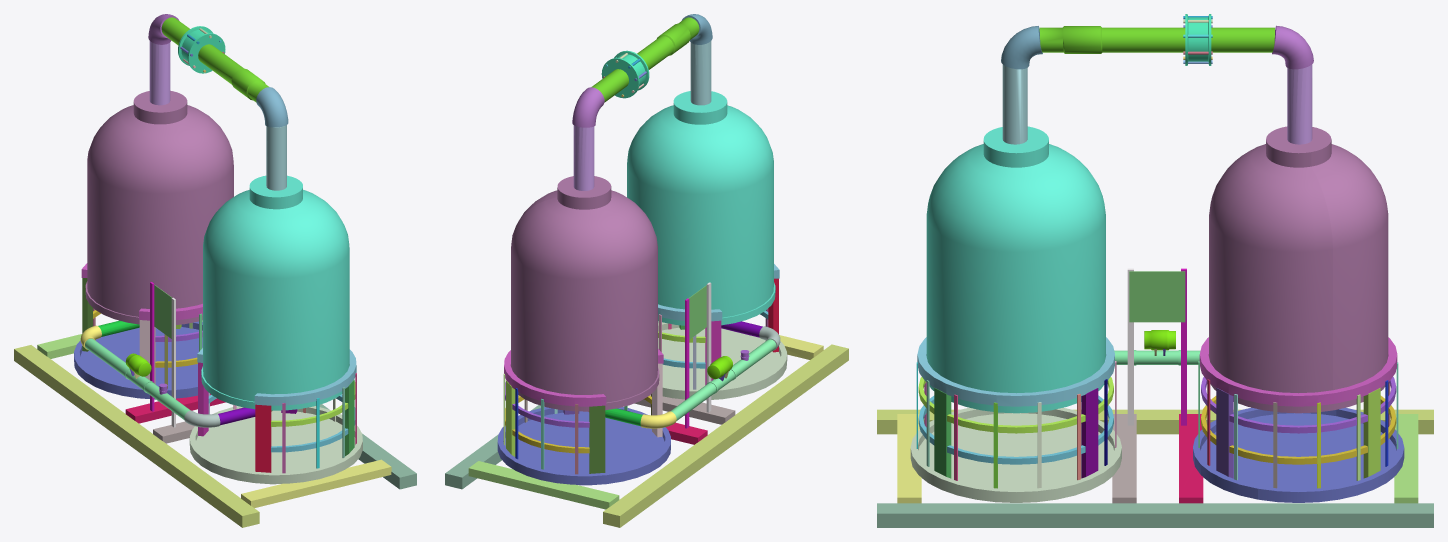
3 views of the same model, side by side, from view 1: azimuth 30°, elevation 25°; view 2: azimuth 150°, elevation 25°; view 3: azimuth 270°, elevation 25° (orthographic). The views are drawn at different scales.
Visible parts, largest first — view 1: Cylinder_TT_checker_1024x1024_UV_GRID_0.001, split_parent_2, Cylinder_TT_checker_1024x1024_UV_GRID_0.101, Cylinder_TT_checker_1024x1024_UV_GRID_0.329, split_parent_37, Cylinder_TT_checker_1024x1024_UV_GRID_0.335, Cylinder_TT_checker_1024x1024_UV_GRID_0.015, split_parent_36, Cylinder_TT_checker_1024x1024_UV_GRID_0.035, Cylinder_TT_checker_1024x1024_UV_GRID_0, Cylinder_TT_checker_1024x1024_UV_GRID_0.013, Cylinder_TT_checker_1024x1024_UV_GRID_0.317 (+17 smaller); view 2: split_parent_2, Cylinder_TT_checker_1024x1024_UV_GRID_0.001, split_parent_37, Cylinder_TT_checker_1024x1024_UV_GRID_0.329, Cylinder_TT_checker_1024x1024_UV_GRID_0.101, Cylinder_TT_checker_1024x1024_UV_GRID_0.311, Cylinder_TT_checker_1024x1024_UV_GRID_0.015, split_parent_54, Cylinder_TT_checker_1024x1024_UV_GRID_0.035, Cylinder_TT_checker_1024x1024_UV_GRID_0, Cylinder_TT_checker_1024x1024_UV_GRID_0.013, Cylinder_TT_checker_1024x1024_UV_GRID_0.317 (+17 smaller); view 3: split_parent_2, Cylinder_TT_checker_1024x1024_UV_GRID_0.001, Cylinder_TT_checker_1024x1024_UV_GRID_0.317, split_parent_37, Cylinder_TT_checker_1024x1024_UV_GRID_0.101, Cylinder_TT_checker_1024x1024_UV_GRID_0.015, split_parent_54, split_parent_36, Cylinder_TT_checker_1024x1024_UV_GRID_0.359, Cylinder_TT_checker_1024x1024_UV_GRID_0.329, Cylinder_TT_checker_1024x1024_UV_GRID_0, Cylinder_TT_checker_1024x1024_UV_GRID_0.013 (+18 smaller).
Part boxes in pixels (x1=…): Cylinder_TT_checker_1024x1024_UV_GRID_0.001: x1=201, y1=175, x2=349, y2=410; split_parent_2: x1=85, y1=90, x2=233, y2=324; Cylinder_TT_checker_1024x1024_UV_GRID_0.101: x1=189, y1=406, x2=362, y2=484; Cylinder_TT_checker_1024x1024_UV_GRID_0.329: x1=14, y1=345, x2=259, y2=527; split_parent_37: x1=74, y1=321, x2=202, y2=399; Cylinder_TT_checker_1024x1024_UV_GRID_0.335: x1=241, y1=459, x2=391, y2=508; Cylinder_TT_checker_1024x1024_UV_GRID_0.015: x1=161, y1=17, x2=268, y2=102; split_parent_36: x1=197, y1=348, x2=356, y2=405; Cylinder_TT_checker_1024x1024_UV_GRID_0.035: x1=85, y1=338, x2=190, y2=419; Cylinder_TT_checker_1024x1024_UV_GRID_0: x1=149, y1=41, x2=170, y2=105; Cylinder_TT_checker_1024x1024_UV_GRID_0.013: x1=266, y1=125, x2=286, y2=190; Cylinder_TT_checker_1024x1024_UV_GRID_0.317: x1=202, y1=320, x2=416, y2=489; split_parent_2: x1=511, y1=176, x2=659, y2=412; Cylinder_TT_checker_1024x1024_UV_GRID_0.001: x1=627, y1=91, x2=775, y2=325; split_parent_37: x1=497, y1=407, x2=670, y2=485; Cylinder_TT_checker_1024x1024_UV_GRID_0.329: x1=603, y1=344, x2=848, y2=527; Cylinder_TT_checker_1024x1024_UV_GRID_0.101: x1=658, y1=322, x2=787, y2=400; Cylinder_TT_checker_1024x1024_UV_GRID_0.311: x1=468, y1=461, x2=619, y2=509; Cylinder_TT_checker_1024x1024_UV_GRID_0.015: x1=591, y1=17, x2=699, y2=102; split_parent_54: x1=504, y1=349, x2=663, y2=406; Cylinder_TT_checker_1024x1024_UV_GRID_0.035: x1=670, y1=339, x2=776, y2=420; Cylinder_TT_checker_1024x1024_UV_GRID_0: x1=573, y1=125, x2=594, y2=190; Cylinder_TT_checker_1024x1024_UV_GRID_0.013: x1=690, y1=41, x2=711, y2=105; Cylinder_TT_checker_1024x1024_UV_GRID_0.317: x1=445, y1=321, x2=658, y2=489; split_parent_2: x1=1209, y1=126, x2=1388, y2=413; Cylinder_TT_checker_1024x1024_UV_GRID_0.001: x1=926, y1=126, x2=1105, y2=413; Cylinder_TT_checker_1024x1024_UV_GRID_0.317: x1=877, y1=503, x2=1433, y2=527; split_parent_37: x1=1193, y1=407, x2=1404, y2=502; Cylinder_TT_checker_1024x1024_UV_GRID_0.101: x1=910, y1=407, x2=1121, y2=502; Cylinder_TT_checker_1024x1024_UV_GRID_0.015: x1=1039, y1=26, x2=1274, y2=53; split_parent_54: x1=1199, y1=337, x2=1397, y2=406; split_parent_36: x1=917, y1=337, x2=1114, y2=406; Cylinder_TT_checker_1024x1024_UV_GRID_0.359: x1=1129, y1=271, x2=1185, y2=322; Cylinder_TT_checker_1024x1024_UV_GRID_0.329: x1=877, y1=409, x2=1433, y2=434; Cylinder_TT_checker_1024x1024_UV_GRID_0: x1=1287, y1=64, x2=1312, y2=144; Cylinder_TT_checker_1024x1024_UV_GRID_0.013: x1=1002, y1=64, x2=1027, y2=144.
Bounding box in the file's own units: 0.4415 × 0.9151 × 1.
